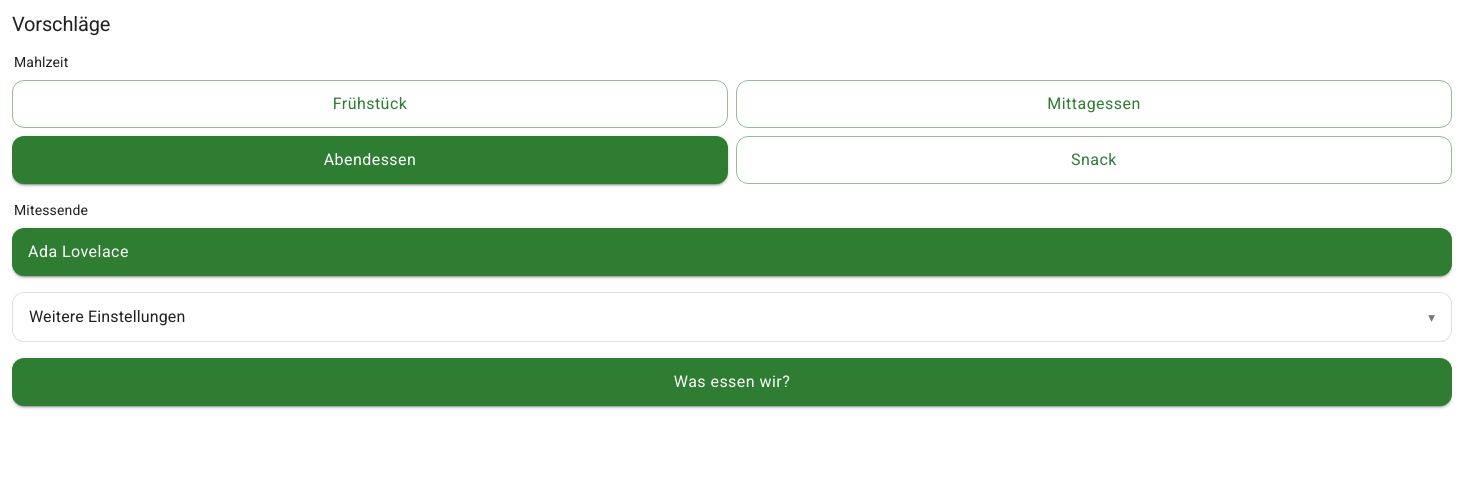
zeigt eine Erklärung, wenn es keine Vorschläge gibt
The image size is (1464, 487).
Expected: the button "Ada Lovelace" is shown, [12,228,1452,276]
Click the button with test id "show-suggestions" at (732, 382), box [12,358,1452,406]
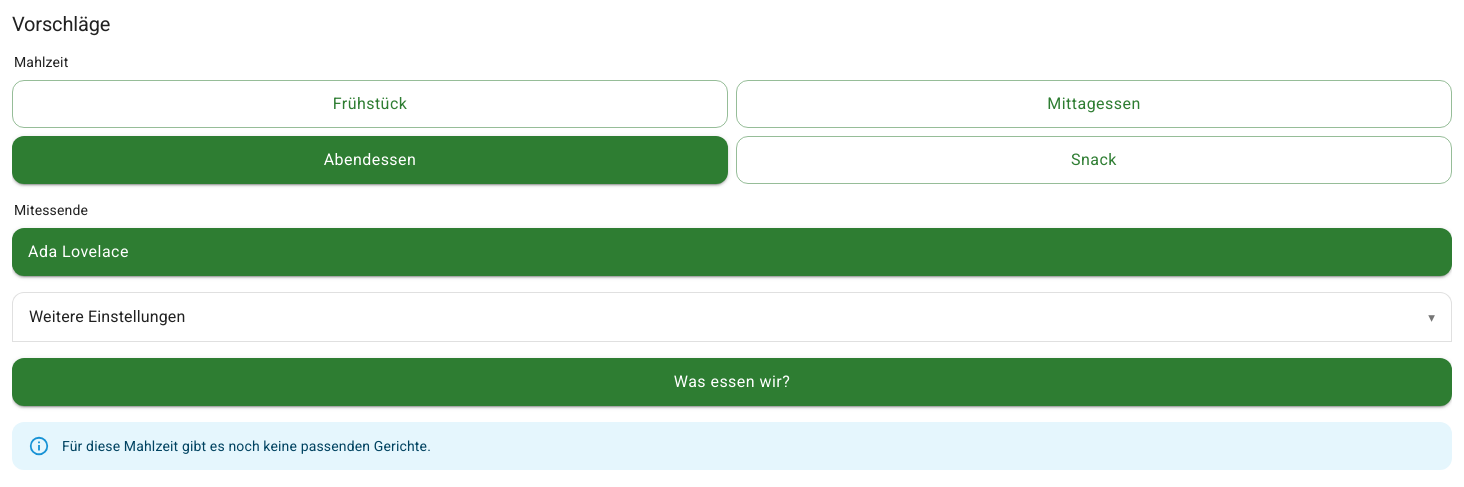
Result: the message with test id "suggestion-explanation" reads "Für diese Mahlzeit gibt es noch keine passenden Gerichte." at [62,438,431,454]
